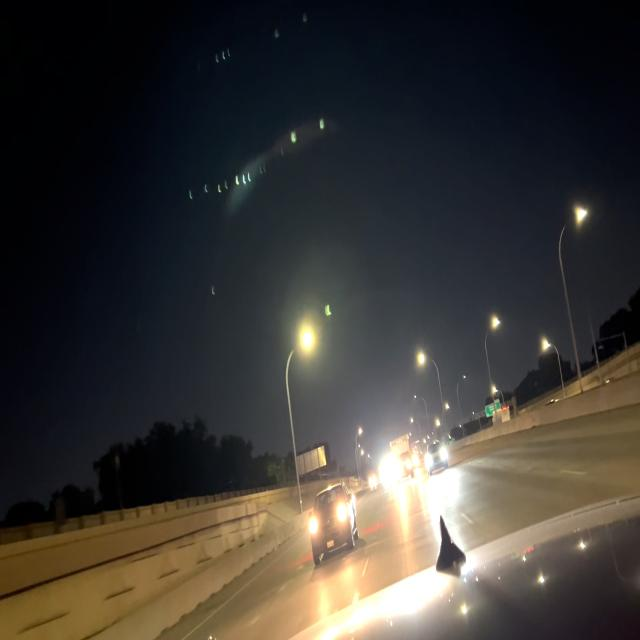back-of-sign: (296, 444, 328, 480)
